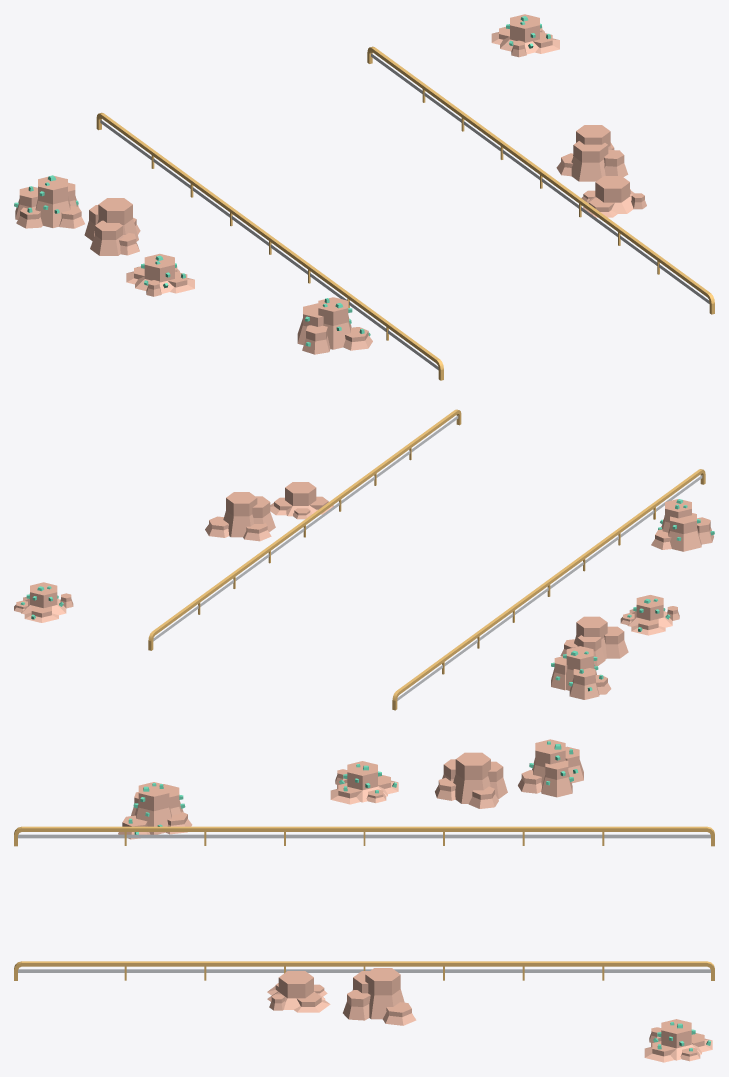
File: road_straight.glb
3 renders of one model, top to bottom at view 1: azimuth 30°, elevation 25°; view 2: azimuth 150°, elevation 25°; view 3: azimuth 270°, elevation 25°, orthographic. The views are drawn at different scales.
Visible parts, largest first — view 1: RoadStraight; view 2: RoadStraight; view 3: RoadStraight.
Part boxes in pixels (x1,y1,x2,y2): RoadStraight: (14,14,714,380); RoadStraight: (14,409,714,710); RoadStraight: (14,739,714,1062).
Bounding box in the file's own units: 8.8 × 0.55 × 8.8.
